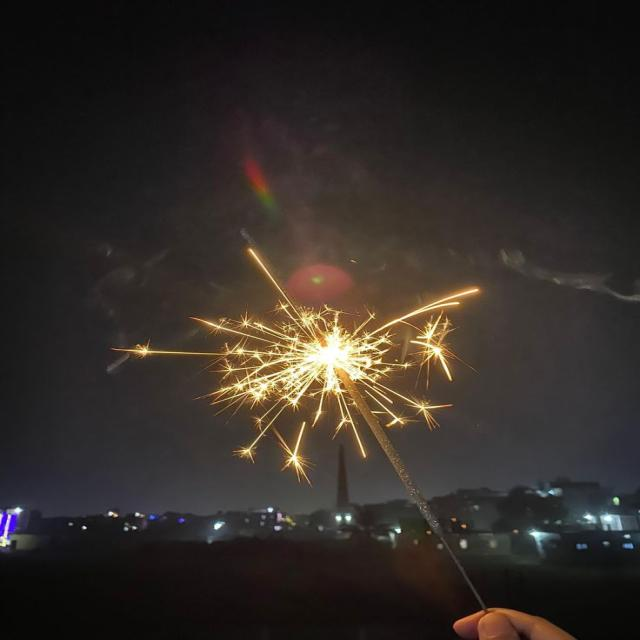fire: (304, 326, 373, 393)
